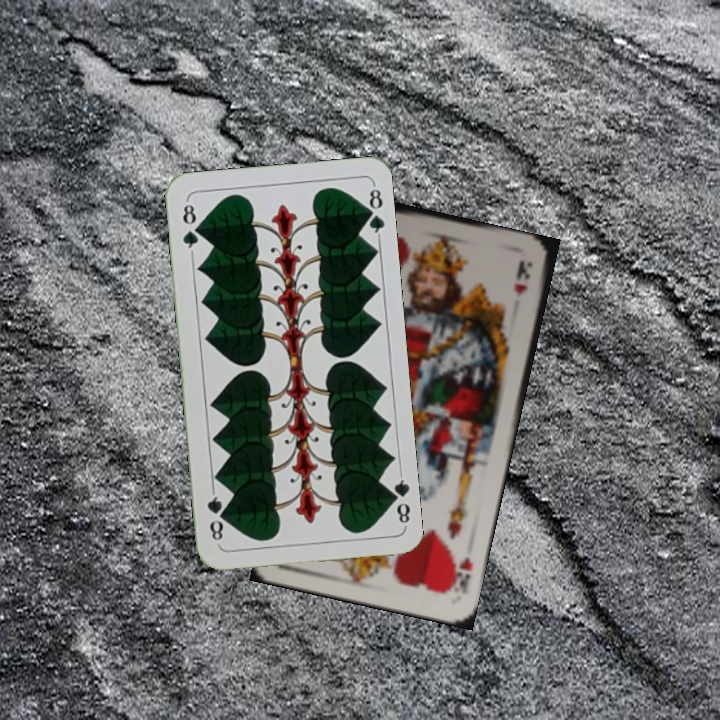G8: (384, 469, 414, 529), (178, 197, 202, 256)
HK: (445, 553, 476, 597)
